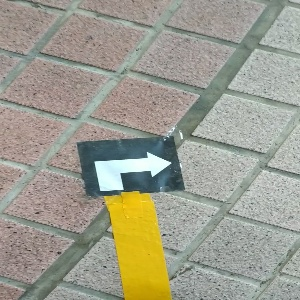right: (77, 137, 183, 194)
